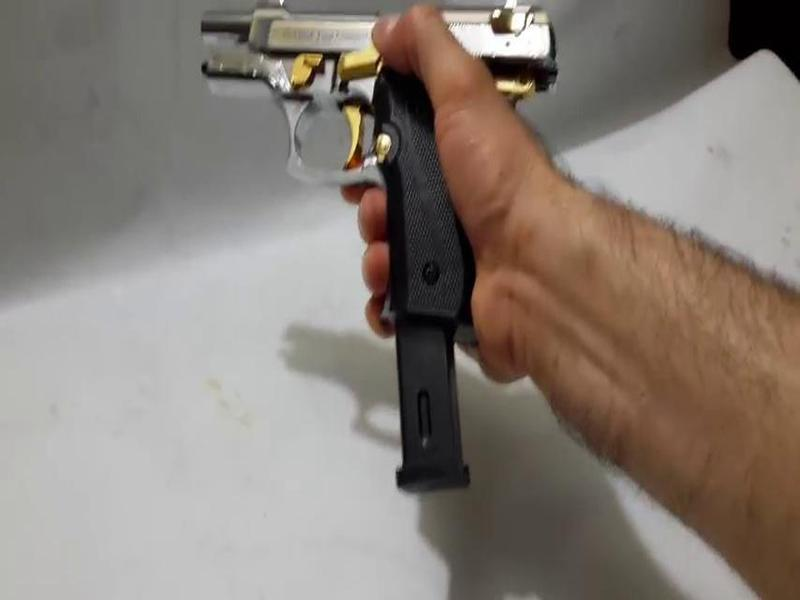Pistola: (166, 1, 615, 344)
